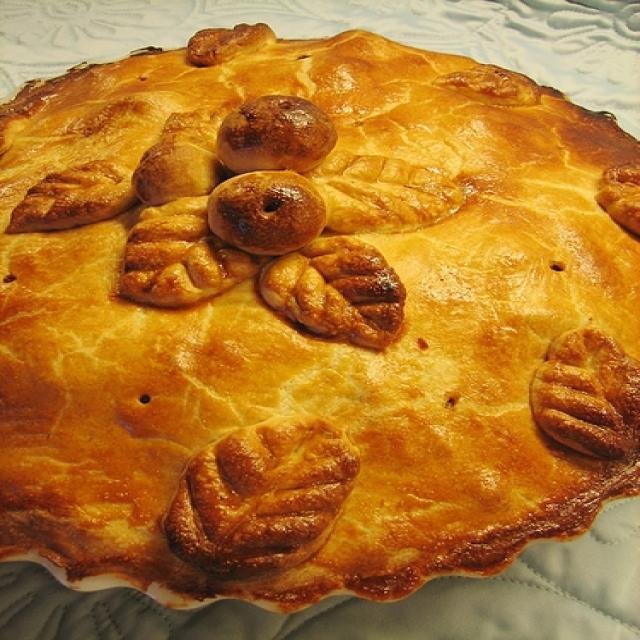Apple: (1, 32, 640, 580)
